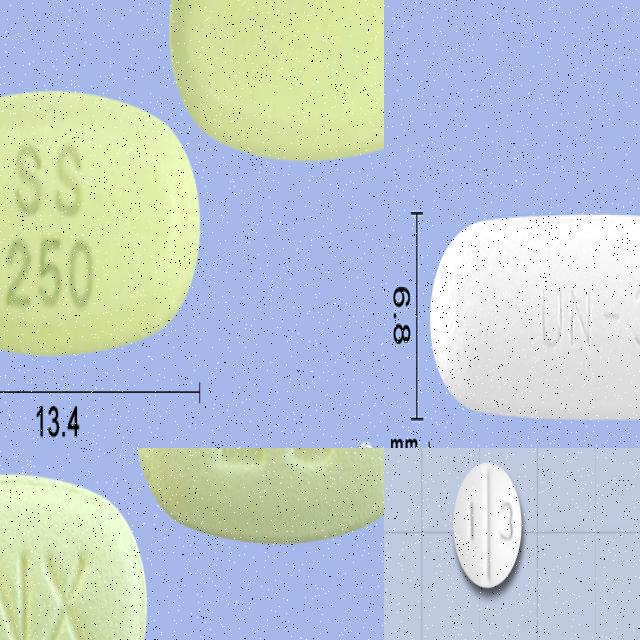Piclo Tab: (0, 476, 147, 640), (134, 448, 384, 544)
Rheumakin Tab-20mg: (453, 462, 522, 588)
Samsung Clarithromycin Tab-500mg: (0, 87, 202, 351), (168, 0, 384, 158)
Uniciprosacin Tab: (428, 217, 640, 420)
